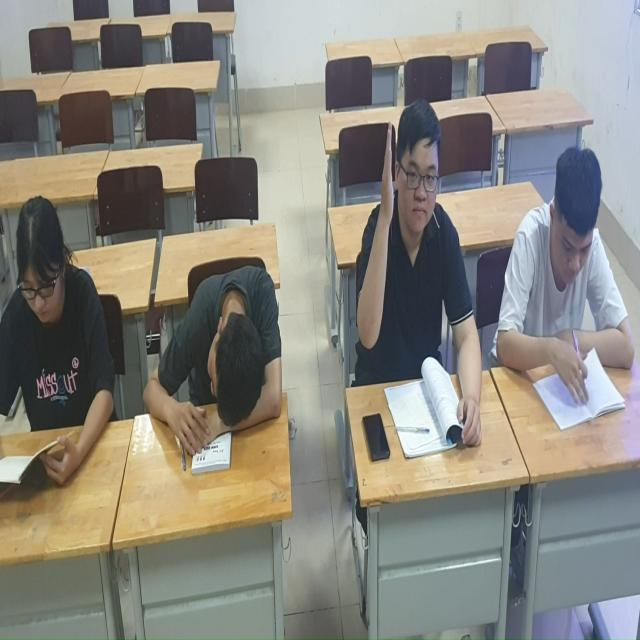raise_hand: (357, 103, 490, 455)
read: (496, 116, 634, 427), (1, 160, 114, 518)
sleep: (146, 263, 287, 460)
